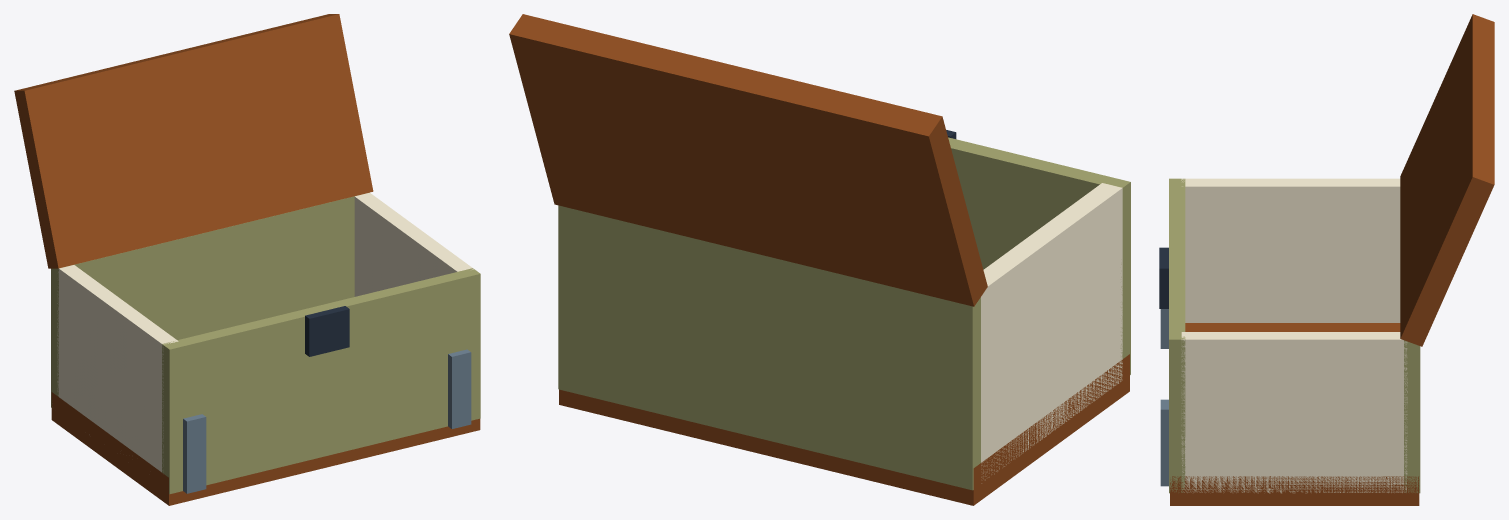
The picture shows the model from 3 angles, left to right: view 1: azimuth 30°, elevation 25°; view 2: azimuth 150°, elevation 25°; view 3: azimuth 270°, elevation 25°; orthographic projection. The views are drawn at different scales.
Parts seen in each view (by area): view 1: raised lid, panel 0.5, panel -0.5, end panel -0.77, floor, end panel 0.77, clasp, corner 0.69, corner -0.69; view 2: raised lid, panel -0.5, end panel -0.77, floor, panel 0.5; view 3: end panel 0.77, end panel -0.77, raised lid, floor, panel 0.5, panel -0.5, corner 0.69, clasp.
Part boxes in pixels (x1=…): raised lid: x1=14, y1=14, x2=373, y2=268; panel 0.5: x1=162, y1=268, x2=480, y2=494; panel -0.5: x1=51, y1=195, x2=356, y2=407; end panel -0.77: x1=57, y1=265, x2=178, y2=472; floor: x1=51, y1=392, x2=480, y2=505; end panel 0.77: x1=354, y1=192, x2=473, y2=296; clasp: x1=305, y1=306, x2=349, y2=356; corner 0.69: x1=448, y1=349, x2=471, y2=428; corner -0.69: x1=183, y1=414, x2=206, y2=493; raised lid: x1=509, y1=14, x2=987, y2=306; panel -0.5: x1=558, y1=205, x2=980, y2=490; end panel -0.77: x1=981, y1=183, x2=1122, y2=483; floor: x1=559, y1=354, x2=1129, y2=505; panel 0.5: x1=948, y1=137, x2=1130, y2=377; end panel 0.77: x1=1181, y1=332, x2=1407, y2=493; end panel -0.77: x1=1181, y1=178, x2=1400, y2=322; raised lid: x1=1400, y1=14, x2=1494, y2=346; floor: x1=1170, y1=323, x2=1419, y2=505; panel 0.5: x1=1169, y1=178, x2=1185, y2=493; panel -0.5: x1=1404, y1=340, x2=1420, y2=493; corner 0.69: x1=1160, y1=399, x2=1168, y2=486; clasp: x1=1159, y1=247, x2=1168, y2=308.
Bounding box in the file's own units: 1.64 × 1.55 × 1.42.
